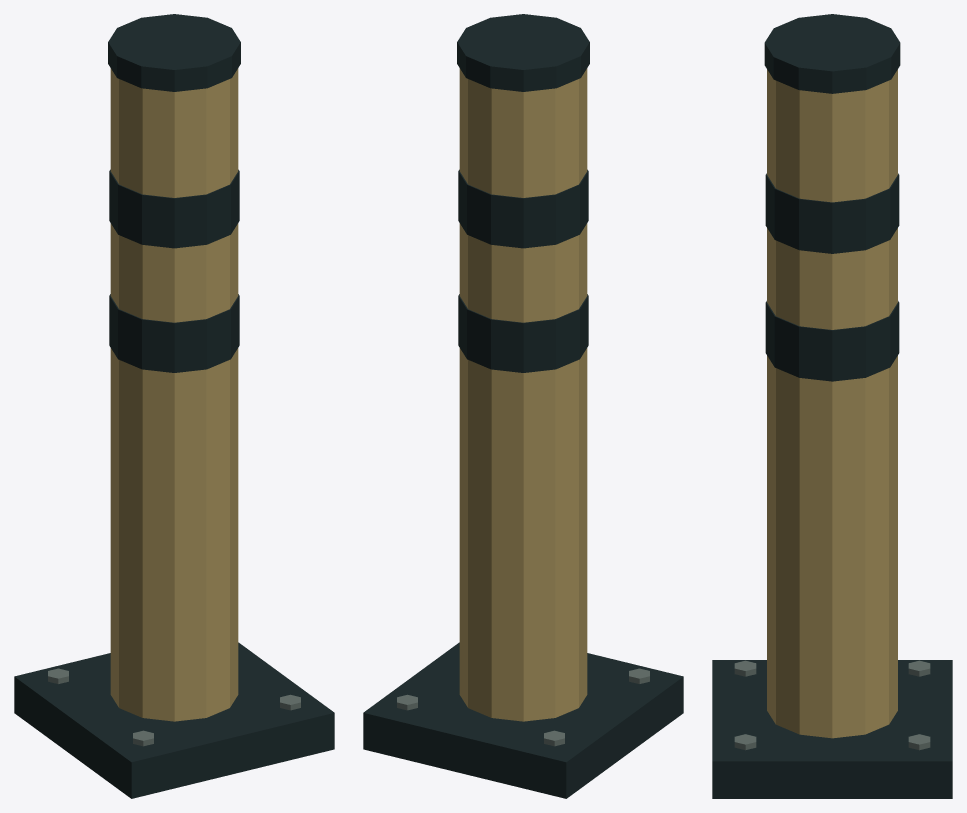
The model's file is safety-bollard.glb.
The picture shows the model from 3 angles, left to right: view 1: azimuth 30°, elevation 25°; view 2: azimuth 150°, elevation 25°; view 3: azimuth 270°, elevation 25°; orthographic projection. The views are drawn at different scales.
Visible parts, largest first — view 1: safety-bollard; view 2: safety-bollard; view 3: safety-bollard.
Boxes of the visible parts, x1,y1,x2,y2 form: safety-bollard: [14, 14, 334, 798]; safety-bollard: [363, 14, 683, 798]; safety-bollard: [712, 14, 952, 798].
Size of the model in its own units: 0.29 by 0.94 by 0.29.
